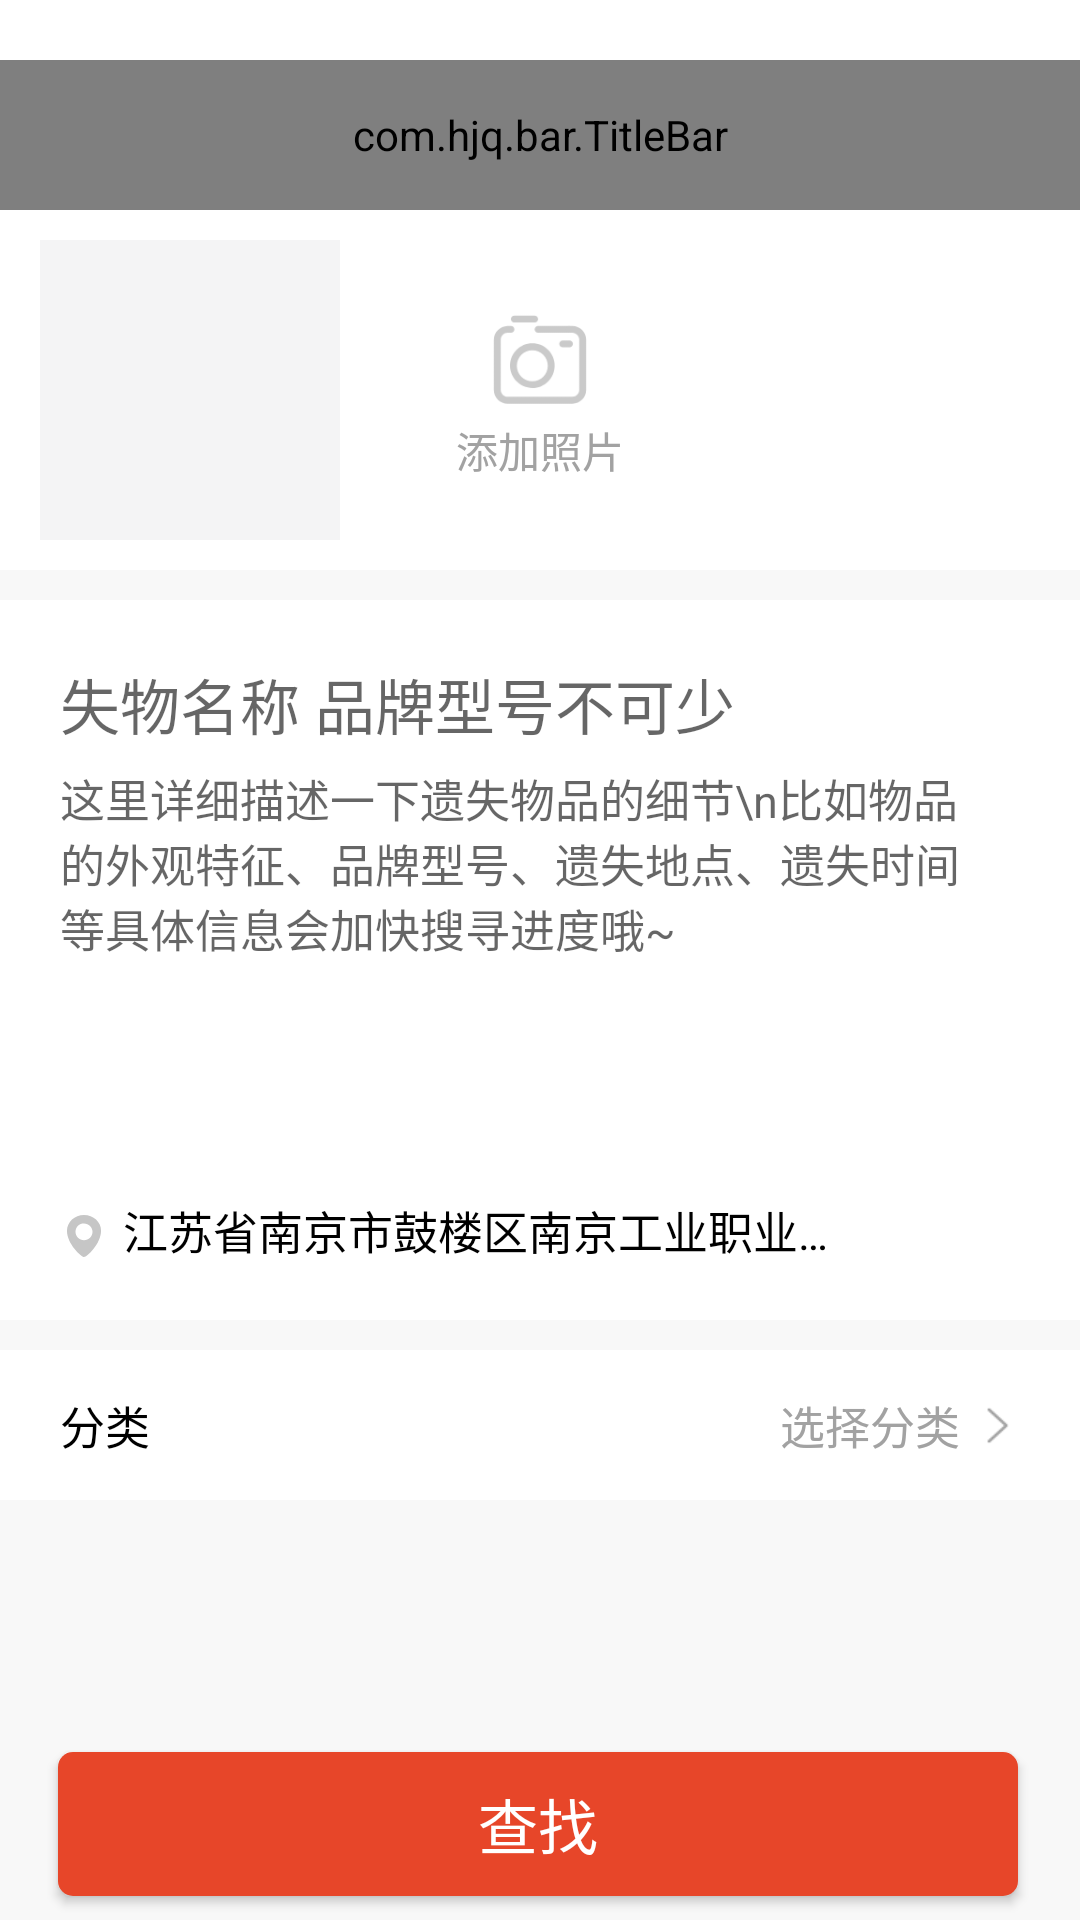

Where icons sit on this 1080×1920 app screen, as bbox(x1, y1, x2, y2):
location: bbox(67, 1215, 101, 1257)
right: bbox(987, 1408, 1008, 1443)
